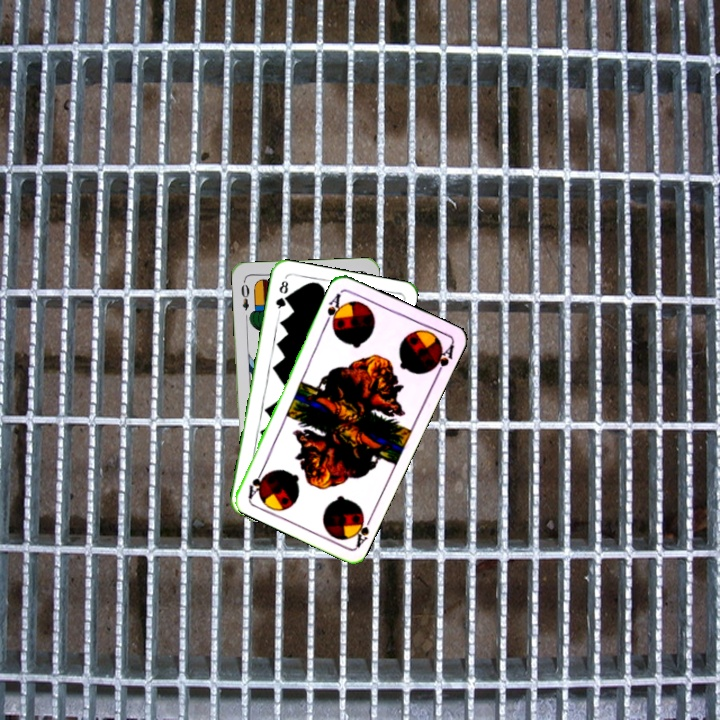EO: (237, 277, 252, 313)
G8: (272, 276, 291, 315)
SA: (347, 508, 375, 550), (322, 288, 346, 329)
